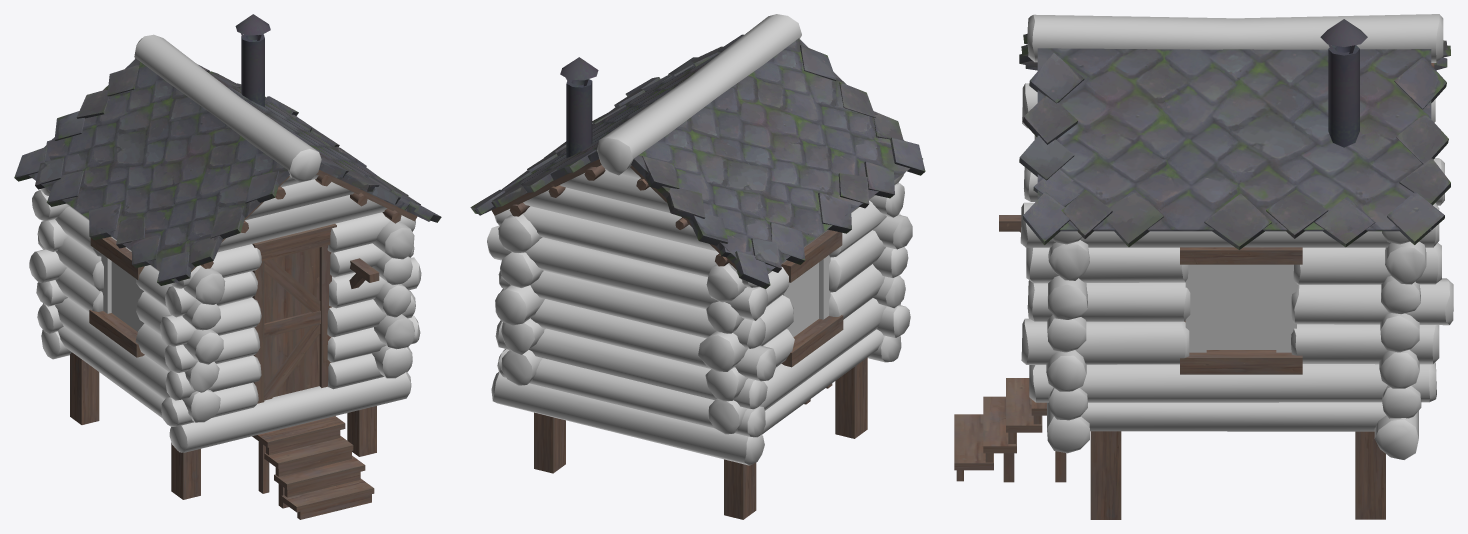
File: Homeworld_Exterior_Md_Build_House_07_Lod0.fbx
The picture shows the model from 3 angles, left to right: view 1: azimuth 30°, elevation 25°; view 2: azimuth 150°, elevation 25°; view 3: azimuth 270°, elevation 25°; orthographic projection. The views are drawn at different scales.
Parts seen in each view (by area): view 1: Area_MdBuild_House15_Lod0; view 2: Area_MdBuild_House15_Lod0; view 3: Area_MdBuild_House15_Lod0.
Part boxes in pixels (x1,y1,x2,y2): Area_MdBuild_House15_Lod0: (14, 14, 441, 519); Area_MdBuild_House15_Lod0: (470, 14, 925, 519); Area_MdBuild_House15_Lod0: (954, 14, 1453, 519).
Bounding box in the file's own units: 5.45 × 6.94 × 6.48.
